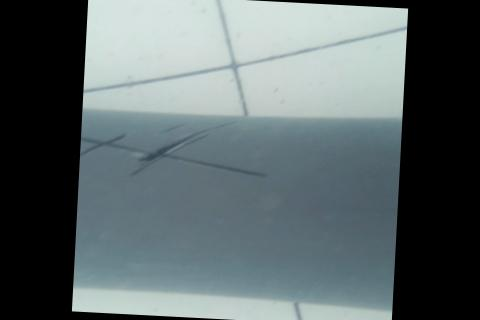keretakan: (79, 113, 270, 184)
